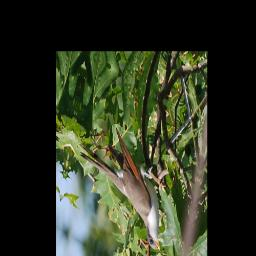Cuckoo: (70, 108, 175, 254)
